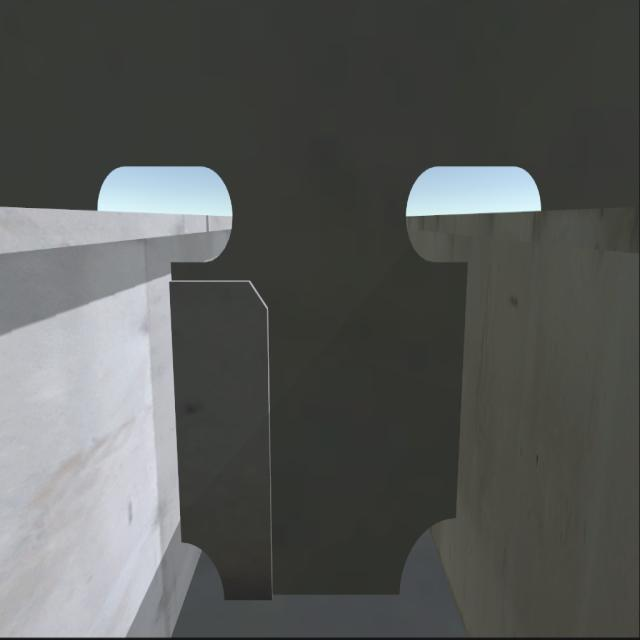fillet_hole: (399, 522, 457, 592), (174, 540, 227, 604)
fillet_yong_jeop_jang: (218, 580, 404, 607)
longi_yong_jeop_jang: (450, 260, 474, 522), (167, 254, 184, 546)
plate_CP03: (169, 268, 275, 598)
